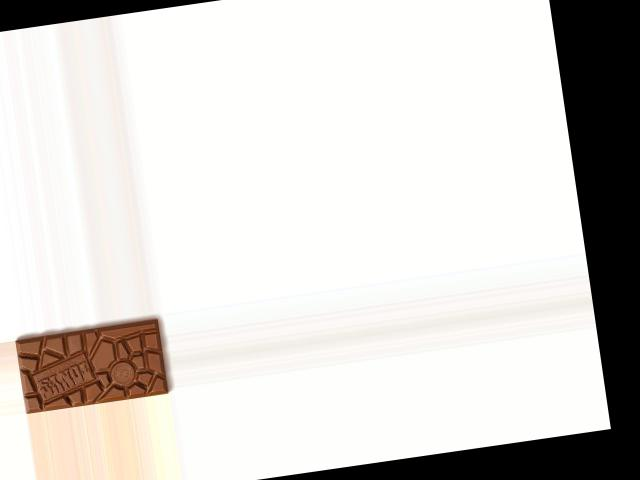chocolate: (13, 315, 170, 413)
